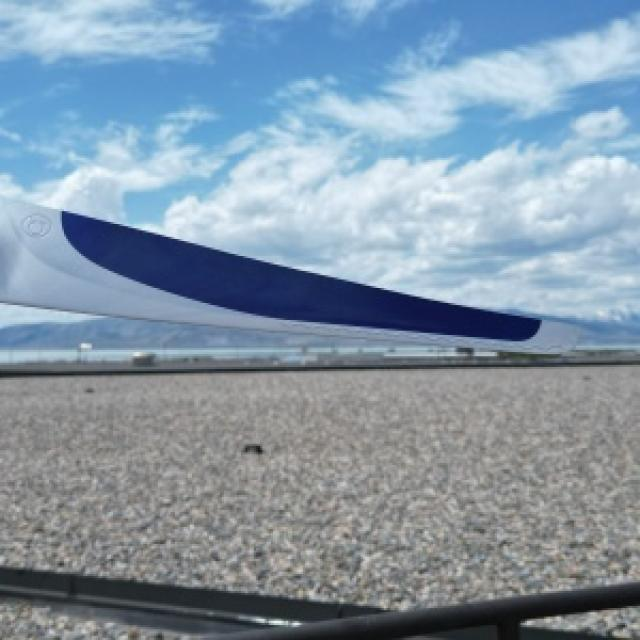healthy: (0, 196, 574, 350)
